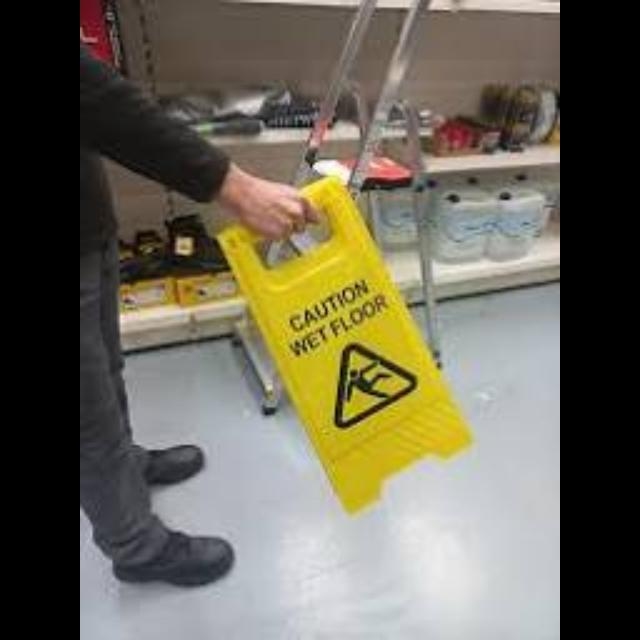tron truot: (220, 178, 468, 510)
